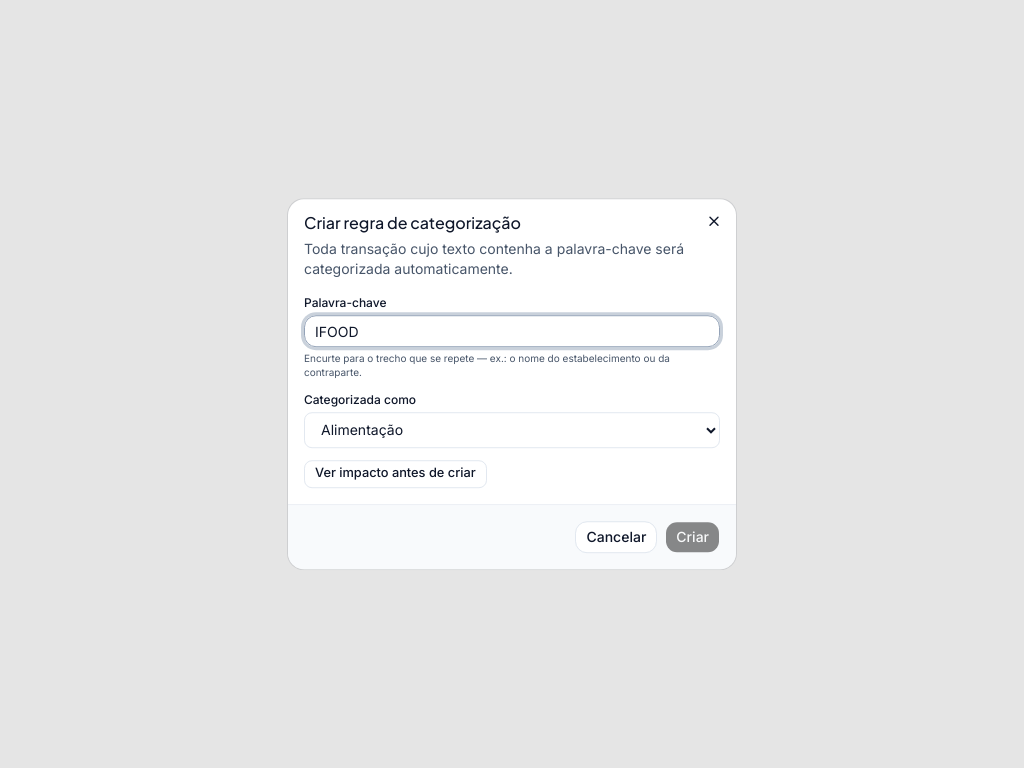
Scenario: CreateRuleDialog · preview + create flow (A12 P4) › hint de match único NÃO aparece com keyword curta
Step 1. Click the button with test id "rule-preview-button" → (395, 474), box [304,460,487,488]
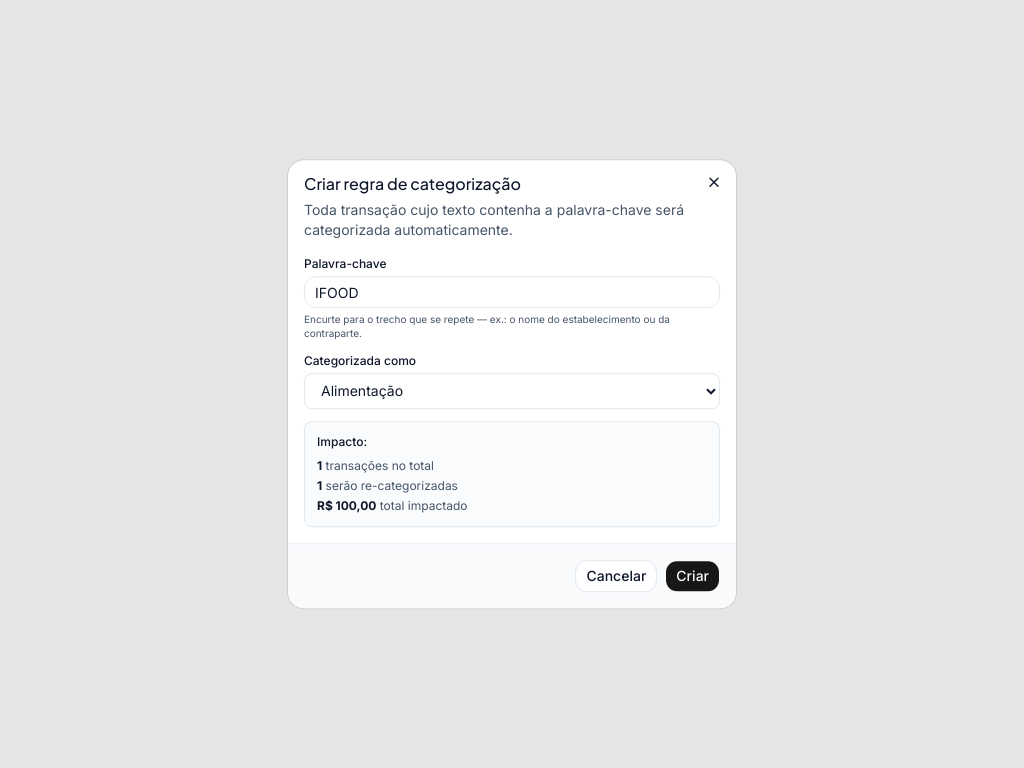
Check: the list item "1 transações no total" is shown, box [317,458,434,473]
